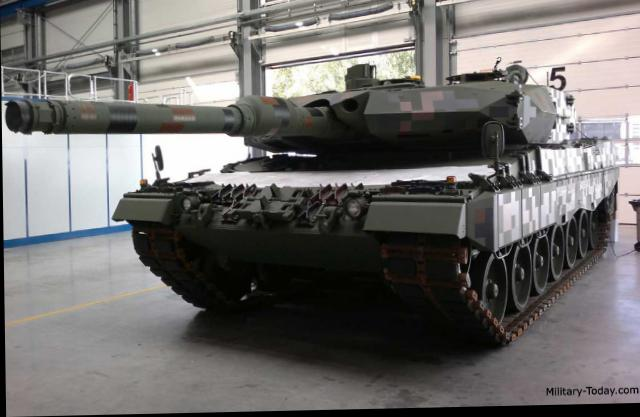tank: (114, 64, 617, 348)
